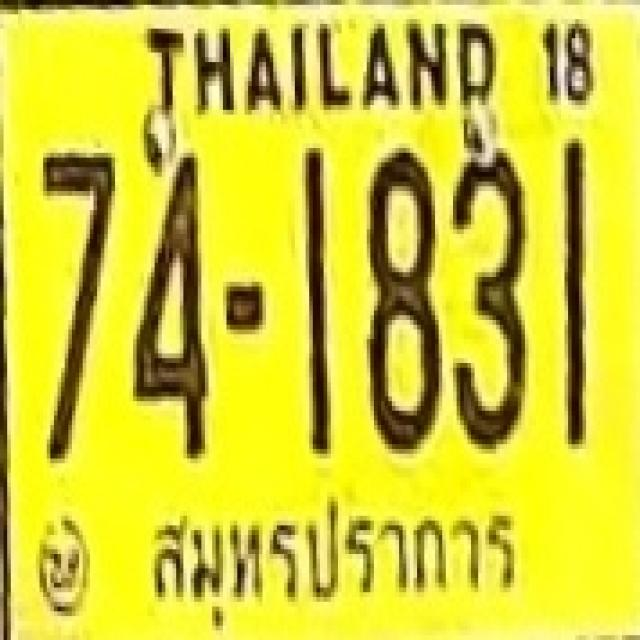1: (302, 146, 327, 394), (563, 141, 584, 394)
3: (449, 146, 525, 447)
4: (128, 141, 206, 456)
7: (40, 148, 115, 349), (40, 148, 115, 330)
8: (366, 146, 438, 451)
SPK: (139, 478, 538, 633)
